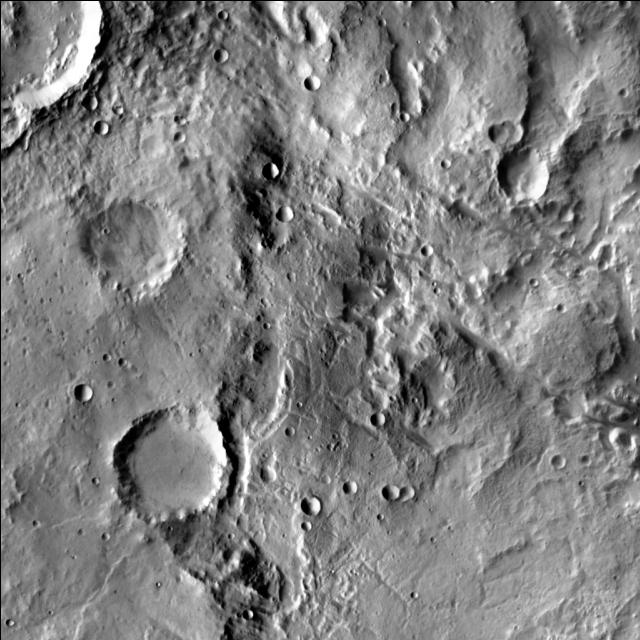crater: (389, 357, 523, 487), (117, 408, 235, 522), (0, 0, 108, 111), (80, 195, 184, 296), (502, 148, 556, 202), (559, 389, 595, 423), (504, 120, 528, 144), (300, 498, 321, 518), (494, 124, 514, 144), (258, 466, 276, 484), (73, 384, 91, 402), (87, 94, 105, 111), (260, 161, 278, 178), (302, 76, 319, 92), (274, 205, 290, 222), (550, 454, 566, 470), (404, 486, 420, 502), (389, 484, 405, 500), (94, 120, 110, 135), (557, 208, 573, 223), (214, 48, 228, 64), (369, 412, 384, 426), (342, 481, 356, 495), (174, 114, 187, 126), (420, 243, 432, 256), (173, 132, 186, 143), (596, 260, 608, 270), (248, 612, 259, 622), (114, 104, 124, 114), (216, 10, 226, 20), (402, 112, 412, 122), (412, 61, 422, 71), (446, 159, 456, 169), (379, 74, 389, 84), (626, 88, 636, 98), (581, 455, 591, 465), (557, 303, 567, 313), (301, 522, 311, 532), (285, 426, 295, 436), (625, 0, 637, 8), (377, 16, 387, 25), (319, 473, 328, 482), (102, 353, 110, 362), (530, 278, 538, 286), (286, 272, 294, 280), (101, 532, 109, 540), (30, 520, 38, 528), (90, 475, 98, 483), (117, 358, 125, 366), (326, 443, 334, 451), (410, 590, 418, 597), (225, 532, 232, 540), (262, 322, 270, 329), (106, 380, 114, 387), (575, 268, 583, 275), (76, 528, 84, 534), (4, 269, 11, 275)
